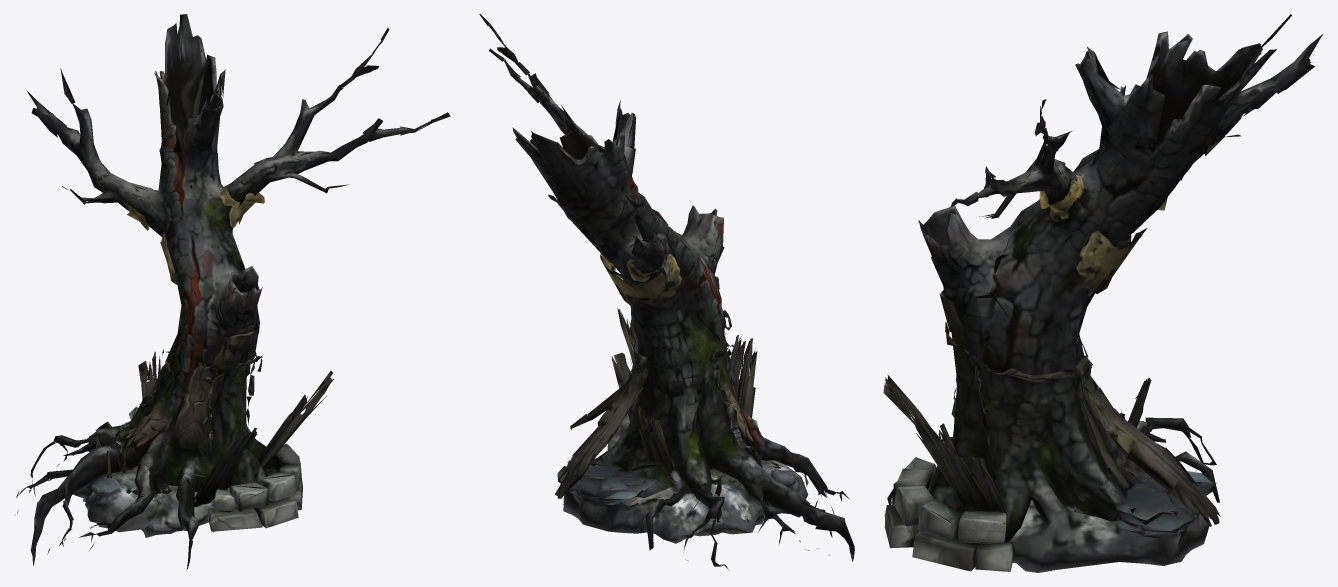
Rendered from char_tree.glb.
The picture shows the model from 3 angles, left to right: view 1: azimuth 30°, elevation 25°; view 2: azimuth 150°, elevation 25°; view 3: azimuth 270°, elevation 25°; orthographic projection. The views are drawn at different scales.
Visible parts, largest first — view 1: char_tree_p2; view 2: char_tree_p2; view 3: char_tree_p2.
Boxes of the visible parts, bbox=[...] form: char_tree_p2: bbox=[14, 14, 450, 570]; char_tree_p2: bbox=[479, 14, 854, 570]; char_tree_p2: bbox=[883, 14, 1322, 572].
Size of the model in its own units: 0.902 by 0.9978 by 0.6685.
Materials: 2 (2 with a texture image).
